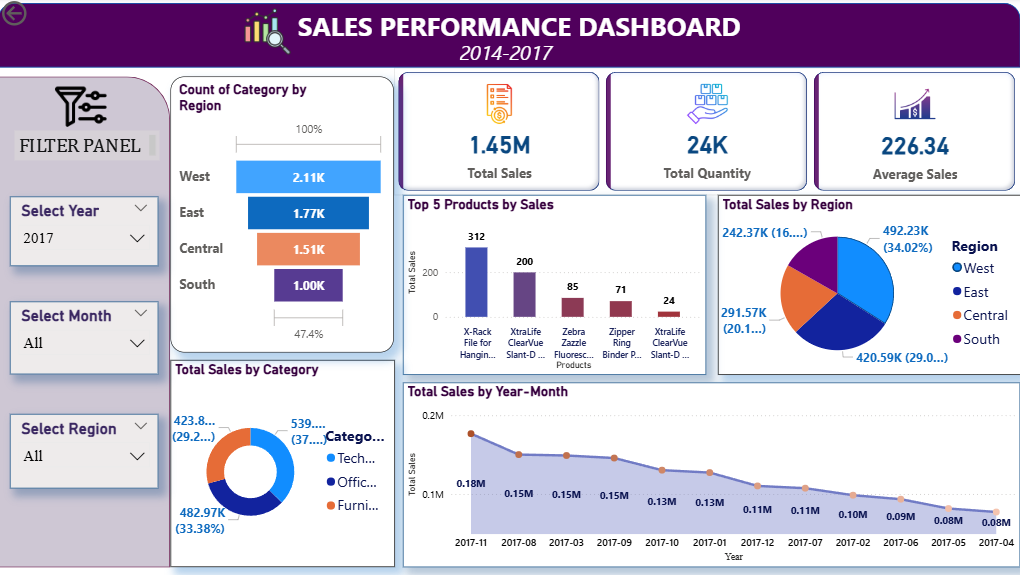

The dashboard page shown, as its layout file describes it:
{"tool":"powerbi","page":{"name":"Page 1","canvas":[1280,720],"ordinal":0},"visuals":[{"type":"cardVisual","fields":{"Data":["salesdb sales.Total Sales","salesdb sales.Total Quantity","salesdb sales.Average Sales"]},"box":[486,86.5,769.5,156.5],"z":0},{"type":"shape","box":[0,7.6,1254.8,79.4],"z":1000},{"type":"textbox","box":[344.2,7.4,590.9,75.5],"z":2000},{"type":"image","box":[279.7,7.6,102,69.9],"z":3000},{"type":"pieChart","fields":{"Category":["salesdb sales.Region"],"Y":["salesdb sales.Total Sales"]},"box":[883.6,243,371.9,220.9],"z":4000},{"type":"clusteredColumnChart","title":"Top 5 Products by Sales","fields":{"Category":["salesdb sales.Product"],"Y":["salesdb sales.Total Sales"]},"box":[497.9,242.2,372,220.9],"z":5000},{"type":"donutChart","fields":{"Category":["salesdb sales.Category"],"Y":["salesdb sales.Total Sales"]},"box":[211.2,445.6,275.1,253.8],"z":6000},{"type":"funnel","fields":{"Y":["CountNonNull(salesdb sales.Category)"],"Category":["salesdb sales.Region"]},"box":[211.7,97.6,274.3,338.7],"z":7000},{"type":"textbox","box":[561.5,46,156.5,51.5],"z":8000},{"type":"actionButton","box":[0,0,100,40],"z":9000},{"type":"shape","box":[0,96.9,211.2,602.6],"z":10000},{"type":"slicer","fields":{"Values":["DateTable.Year"]},"box":[15.5,244.1,182.1,85.2],"z":11000},{"type":"slicer","fields":{"Values":["DateTable.Month Name"]},"box":[15.5,373.9,182.1,89.1],"z":12000},{"type":"stackedAreaChart","fields":{"Y":["salesdb sales.Total Sales"],"Category":["DateTable.Year-Month"]},"box":[497.9,472.7,757.5,226.7],"z":13000},{"type":"slicer","fields":{"Values":["salesdb sales.Region"]},"box":[15.5,511.5,182.1,91.1],"z":14000},{"type":"textbox","box":[19.4,164.7,178.2,36.8],"z":15000},{"type":"image","box":[62,96.9,77.5,73.6],"z":16000}]}

Visuals, with their boxes in screenshot pixels (x1, y1, x2, y2), scaled from the page's 1280x720 canvas onto the 1020x575 screenshot:
cardVisual - salesdb sales.Total Sales x salesdb sales.Total Quantity: left=387, top=69, right=1000, bottom=194
shape: left=0, top=6, right=1000, bottom=69
textbox: left=274, top=6, right=745, bottom=66
image: left=223, top=6, right=304, bottom=62
pieChart - salesdb sales.Region x salesdb sales.Total Sales: left=704, top=194, right=1000, bottom=370
"Top 5 Products by Sales" clusteredColumnChart: left=397, top=193, right=693, bottom=370
donutChart - salesdb sales.Category x salesdb sales.Total Sales: left=168, top=356, right=388, bottom=559
funnel - CountNonNull(salesdb sales.Category) x salesdb sales.Region: left=169, top=78, right=387, bottom=348
textbox: left=447, top=37, right=572, bottom=78
actionButton: left=0, top=0, right=80, bottom=32
shape: left=0, top=77, right=168, bottom=559
slicer - DateTable.Year: left=12, top=195, right=157, bottom=263
slicer - DateTable.Month Name: left=12, top=299, right=157, bottom=370
stackedAreaChart - salesdb sales.Total Sales x DateTable.Year-Month: left=397, top=378, right=1000, bottom=559
slicer - salesdb sales.Region: left=12, top=408, right=157, bottom=481
textbox: left=15, top=132, right=157, bottom=161
image: left=49, top=77, right=111, bottom=136
